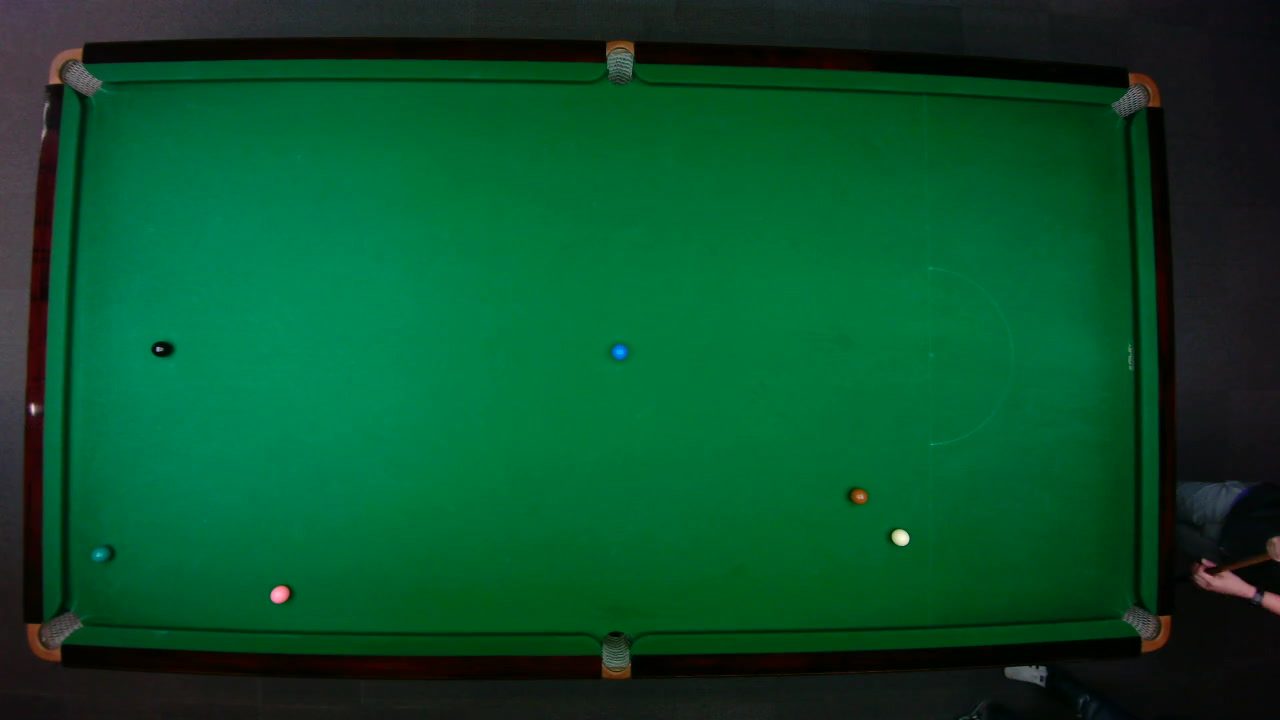bag: (25, 609, 83, 661), (46, 47, 102, 97), (1119, 603, 1172, 652), (1108, 72, 1161, 118), (600, 629, 630, 680), (605, 39, 633, 85)
black: (149, 339, 172, 357)
blue: (610, 342, 628, 360)
brown: (848, 487, 868, 504)
green: (89, 544, 112, 562)
pink: (268, 583, 290, 604)
white: (889, 527, 910, 546)
zone: (927, 265, 1013, 445)
